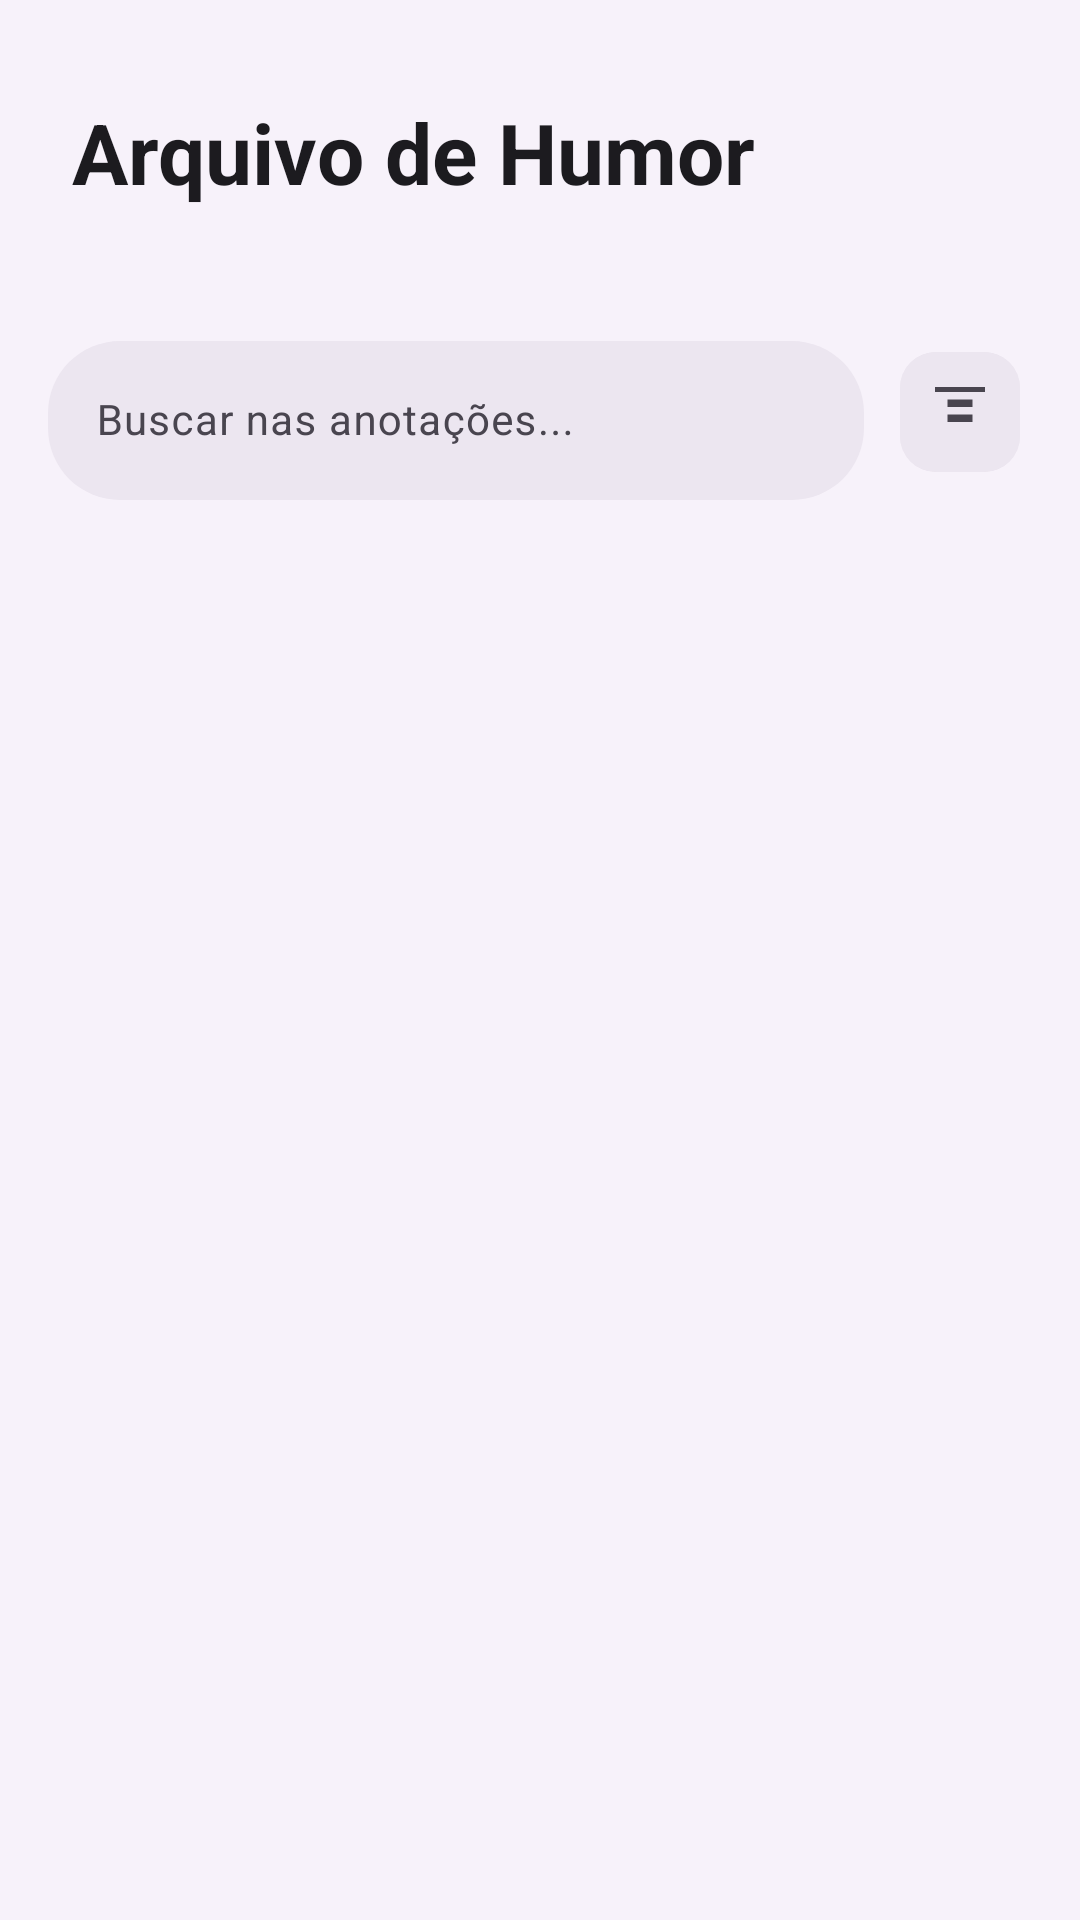

Icons on this 1080*1920 Android screen, each with the point to tap as [x,y]:
filter list: [960,412]
